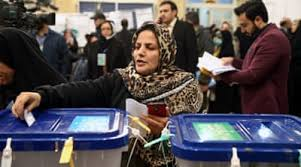middle_eastern_Female: (131, 30, 165, 74)
